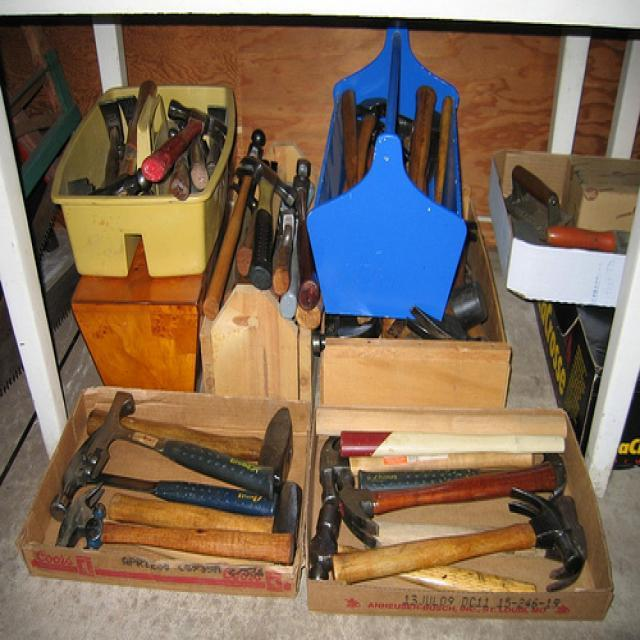hammer: (324, 488, 588, 584), (83, 382, 274, 498), (48, 439, 262, 521), (324, 466, 571, 537), (233, 154, 302, 288), (145, 96, 229, 190)
